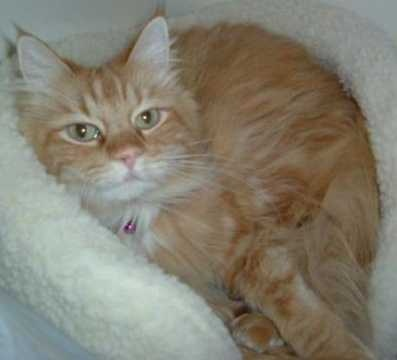Cat: (17, 16, 379, 340)
